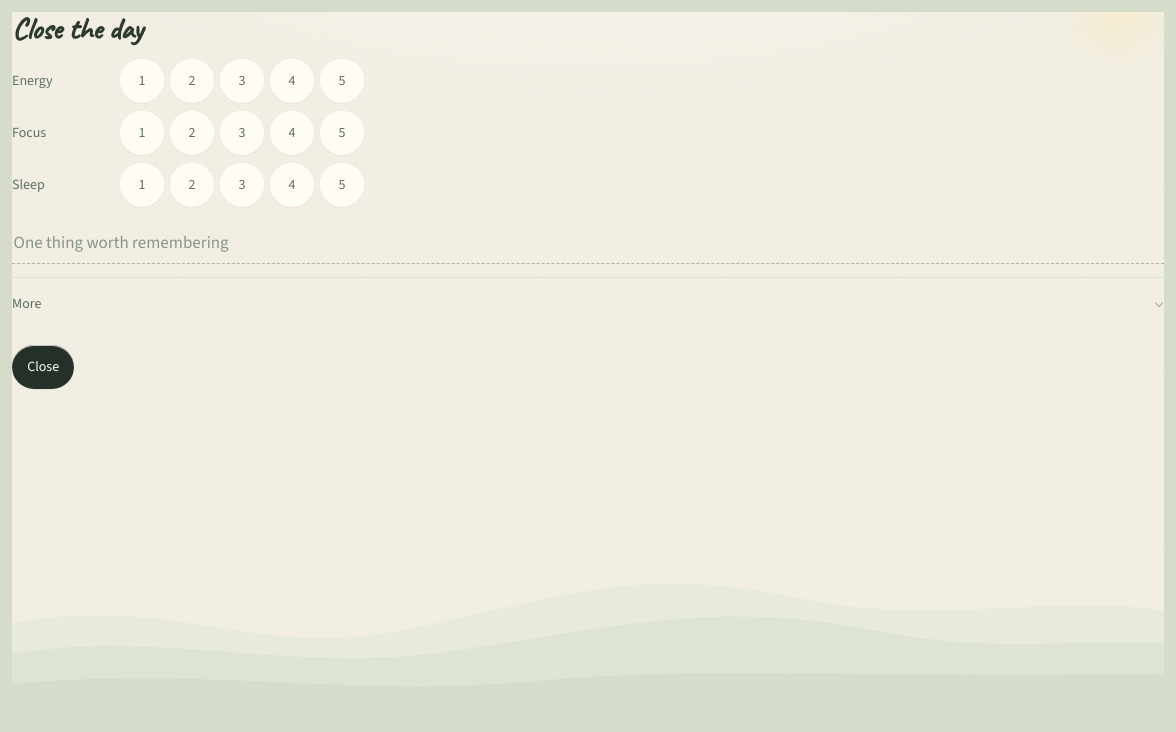
Test case: CloseDayCard › closes and reopens the day
Click the button "Close" at (43, 367), box [12,345,74,389]
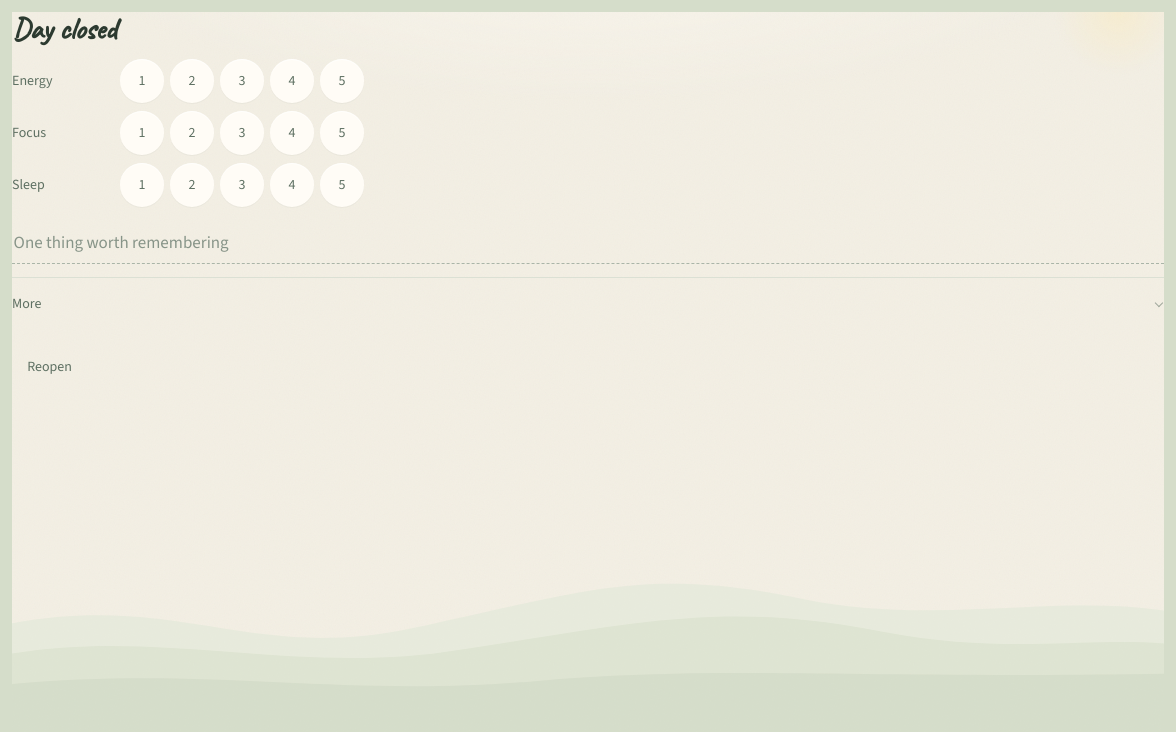
Now the heading "Day closed" is shown, box [12,12,116,47]
Click the button "Reopen" at (50, 367), box [12,345,87,389]
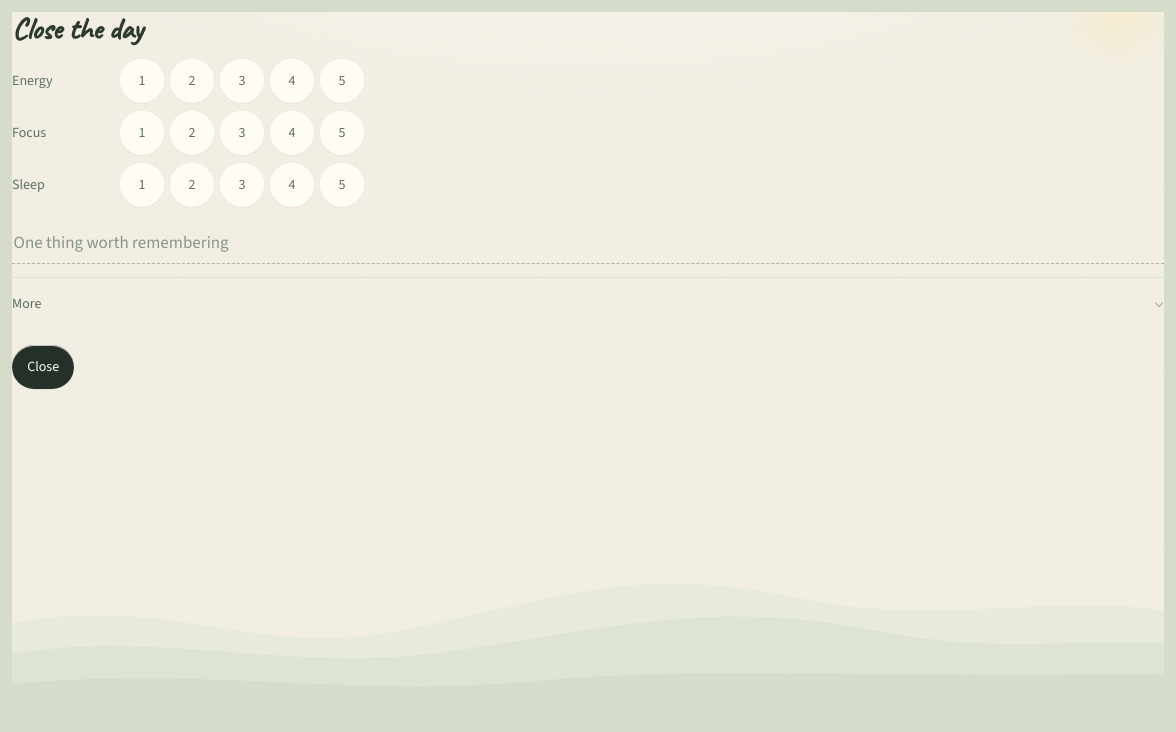
Now the heading "Close the day" is shown, box [12,12,142,47]
